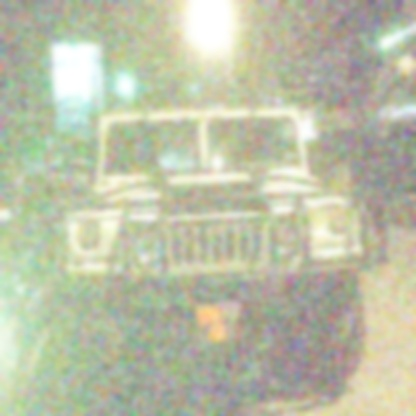Vehicle: (50, 107, 372, 408)
